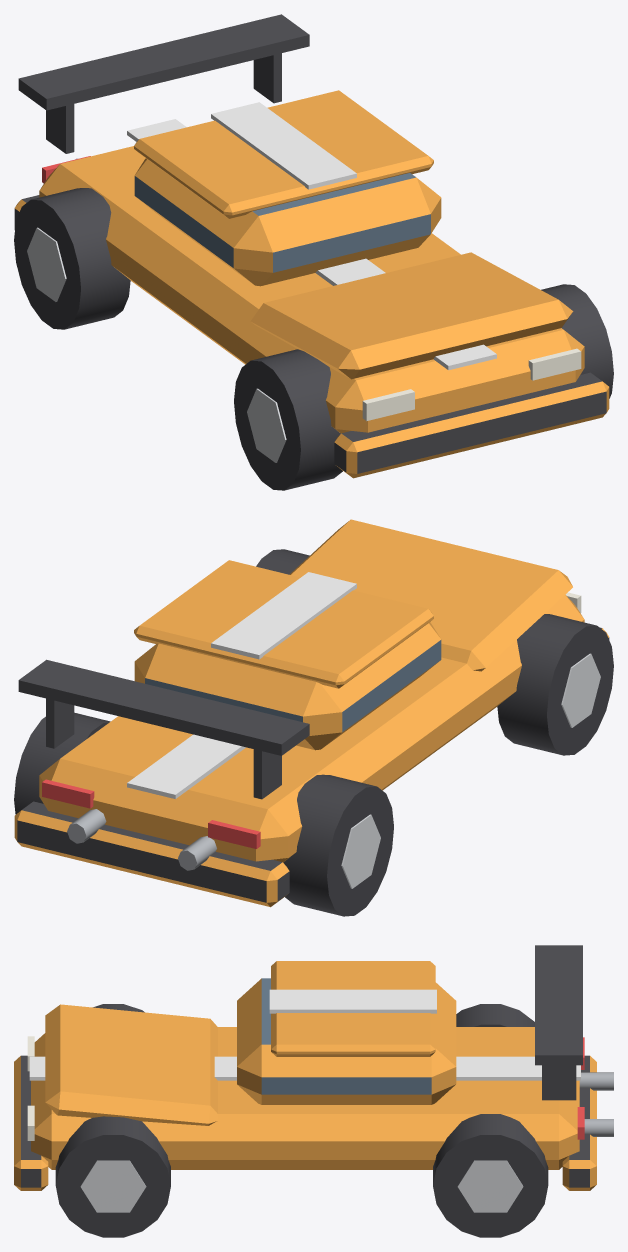
The model's file is rc_car.glb.
3 renders of one model, top to bottom at view 1: azimuth 30°, elevation 25°; view 2: azimuth 150°, elevation 25°; view 3: azimuth 270°, elevation 25°, orthographic. The views are drawn at different scales.
Visible parts, largest first — view 1: rc_car; view 2: rc_car; view 3: rc_car.
Part boxes in pixels (x1,y1,x2,y2): rc_car: (14, 14, 613, 490); rc_car: (14, 519, 613, 916); rc_car: (14, 945, 613, 1237).
Bounding box in the file's own units: 2.28 × 1.39 × 4.38.
